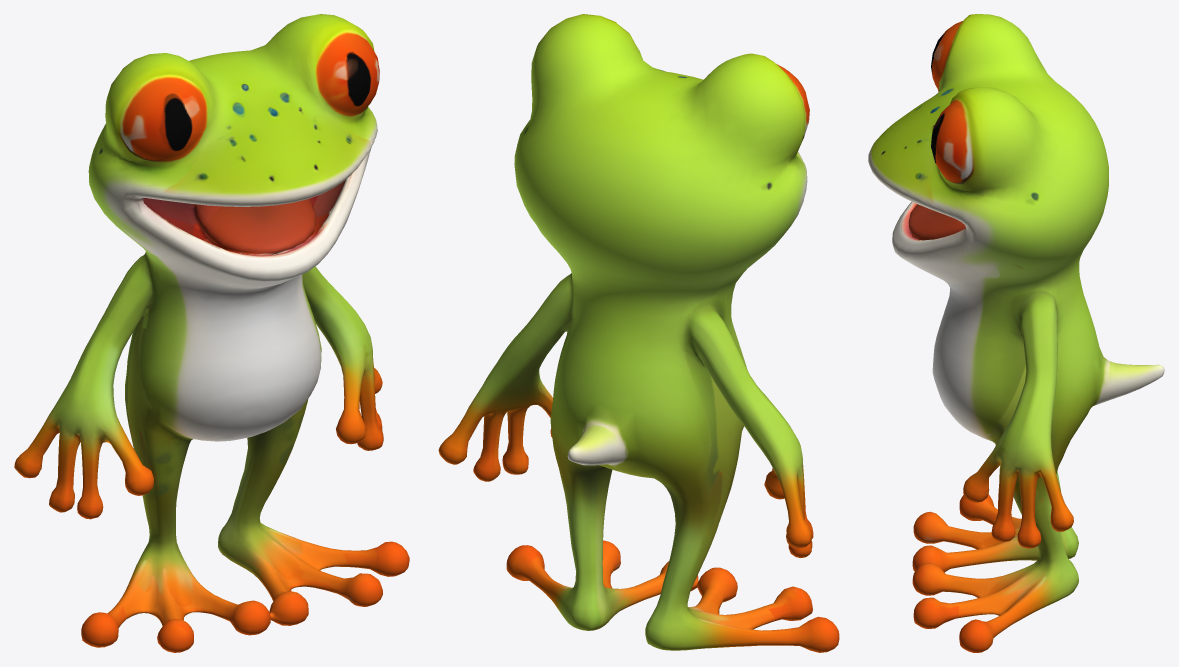
The model's file is frog.glb.
The picture shows the model from 3 angles, left to right: view 1: azimuth 30°, elevation 25°; view 2: azimuth 150°, elevation 25°; view 3: azimuth 270°, elevation 25°; orthographic projection. The views are drawn at different scales.
Visible parts, largest first — view 1: model; view 2: model; view 3: model.
Boxes of the visible parts, box(x1,y1,x2,y2) form: model: box(14, 14, 409, 652); model: box(438, 14, 839, 652); model: box(868, 14, 1164, 652).
Bounding box in the file's own units: 1.28 × 1.91 × 0.9662.
1 material, 1 textured.
